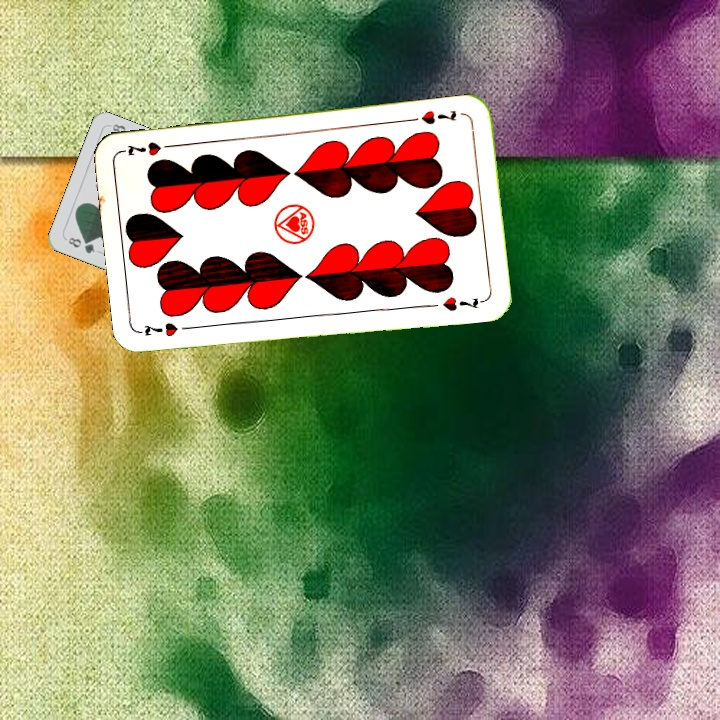G8: (64, 233, 98, 256)
H7: (138, 320, 197, 340), (417, 106, 459, 127)
